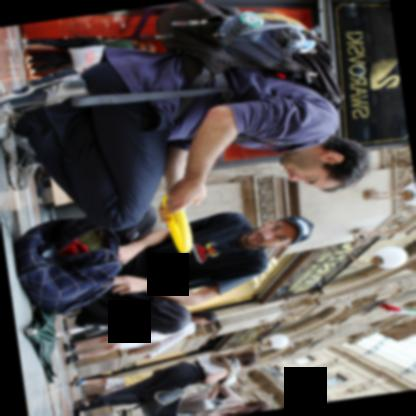backpack: (143, 0, 341, 109)
handbag: (12, 216, 121, 315), (141, 381, 207, 416), (126, 327, 192, 356), (63, 43, 104, 70), (176, 399, 242, 413)
suitcase: (11, 218, 121, 311)
